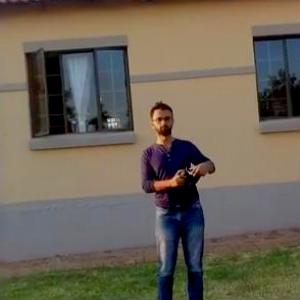follow: (132, 94, 222, 299)
